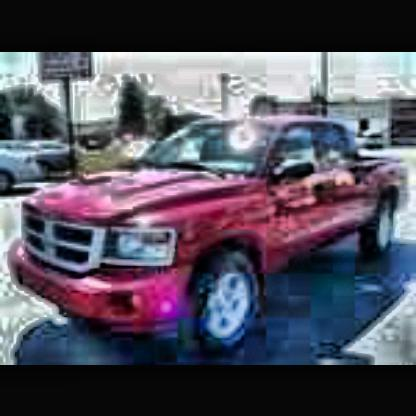Dodge Dakota Crew Cab 2010: (9, 113, 413, 357)
